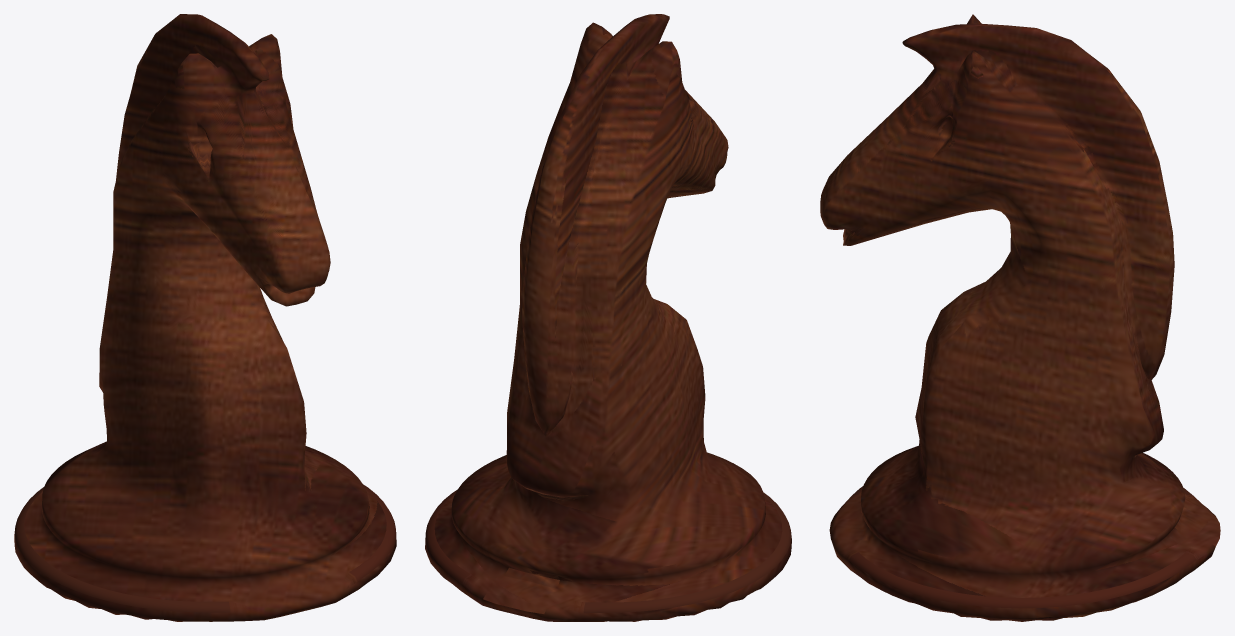
Rendered from knight_black.glb.
3 views of the same model, side by side, from view 1: azimuth 30°, elevation 25°; view 2: azimuth 150°, elevation 25°; view 3: azimuth 270°, elevation 25° (orthographic). The views are drawn at different scales.
Visible parts, largest first — view 1: Cylinder; view 2: Cylinder; view 3: Cylinder.
Boxes of the visible parts, bbox=[...] form: Cylinder: bbox=[14, 14, 396, 621]; Cylinder: bbox=[425, 14, 791, 621]; Cylinder: bbox=[820, 14, 1220, 621].
Size of the model in its own units: 0.6817 by 1.05 by 0.7251.
Materials: 1 (1 with a texture image).
